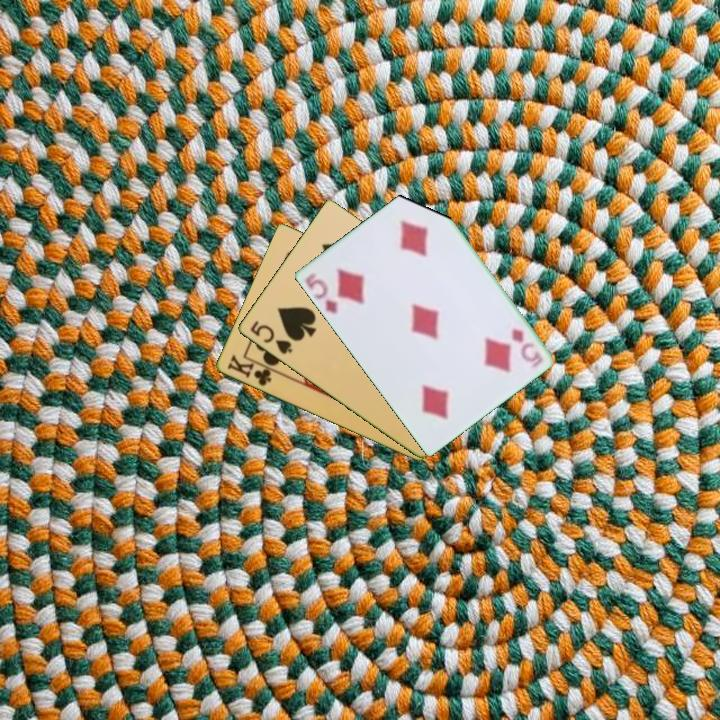5d: (301, 269, 340, 317), (507, 325, 538, 362)
5s: (246, 317, 295, 357)
Kc: (223, 351, 279, 389)
